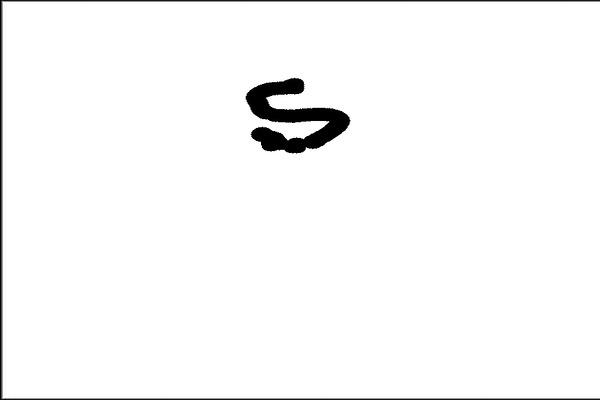S: (239, 73, 355, 159)
